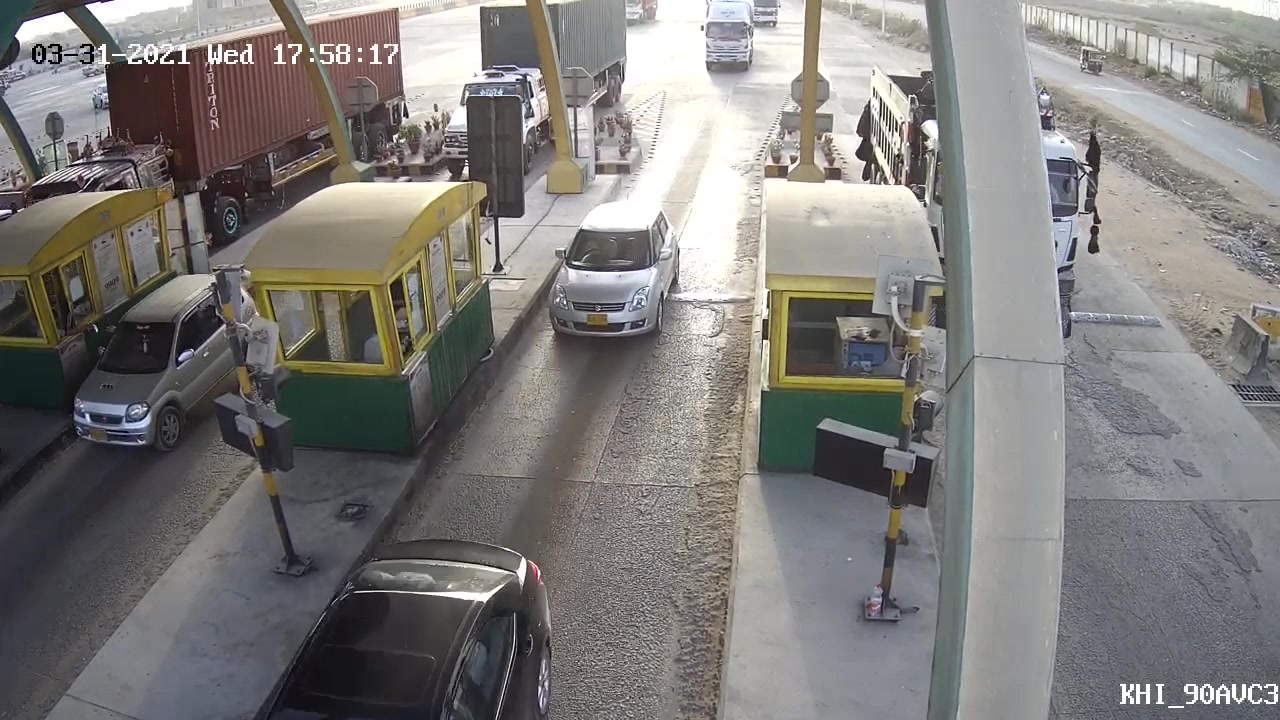F1: (529, 193, 686, 348)
